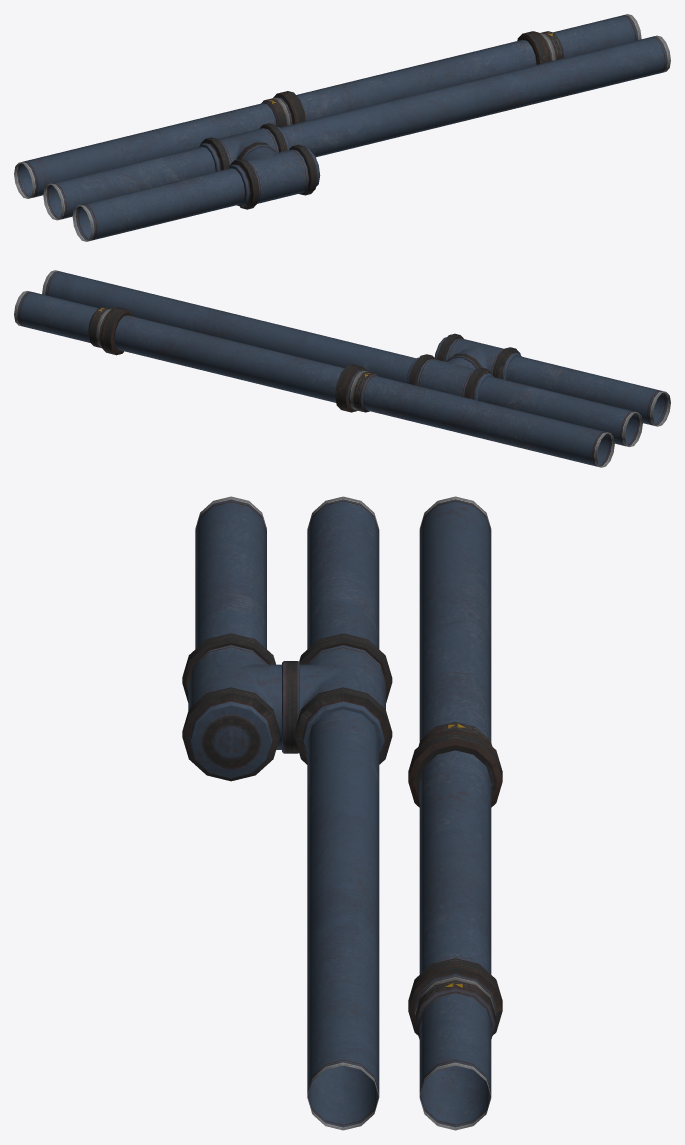
File: PIpe3_G_L0.fbx
The picture shows the model from 3 angles, top to bottom: view 1: azimuth 30°, elevation 25°; view 2: azimuth 150°, elevation 25°; view 3: azimuth 270°, elevation 25°; orthographic projection. The views are drawn at different scales.
Parts seen in each view (by area): view 1: PIpe3_G_L0; view 2: PIpe3_G_L0; view 3: PIpe3_G_L0.
Boxes of the visible parts, left/top/right/bottom form: PIpe3_G_L0: left=14, top=14, right=670, bottom=241; PIpe3_G_L0: left=14, top=270, right=670, bottom=467; PIpe3_G_L0: left=182, top=496, right=502, bottom=1130.
Bounding box in the file's own units: 200 × 14.52 × 47.59.
